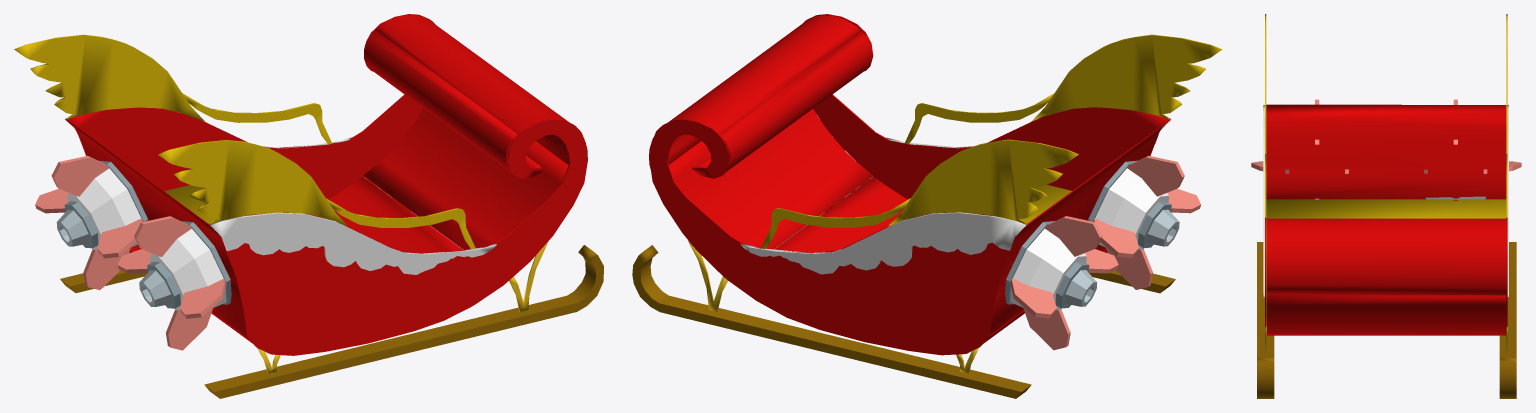
The model's file is kizak.fbx.
3 renders of one model, left to right at view 1: azimuth 30°, elevation 25°; view 2: azimuth 150°, elevation 25°; view 3: azimuth 270°, elevation 25°, orthographic. The views are drawn at different scales.
Visible parts, largest first — view 1: Line010_19_20, Rocket_Ship_Circle.000, Rocket_Ship_Circle.003; view 2: Line010_19_20, Rocket_Ship_Circle.003, Rocket_Ship_Circle.000; view 3: Line010_19_20, Rocket_Ship_Circle.003.
Boxes of the visible parts, x1,y1,x2,y2 form: Line010_19_20: (14, 14, 603, 398); Rocket_Ship_Circle.000: (117, 216, 231, 350); Rocket_Ship_Circle.003: (35, 155, 148, 289); Line010_19_20: (632, 14, 1222, 398); Rocket_Ship_Circle.003: (1005, 216, 1118, 350); Rocket_Ship_Circle.000: (1088, 155, 1200, 289); Line010_19_20: (1257, 14, 1516, 398); Rocket_Ship_Circle.003: (1424, 99, 1521, 200).
Size of the model in its own units: 1184 by 657 by 747.
